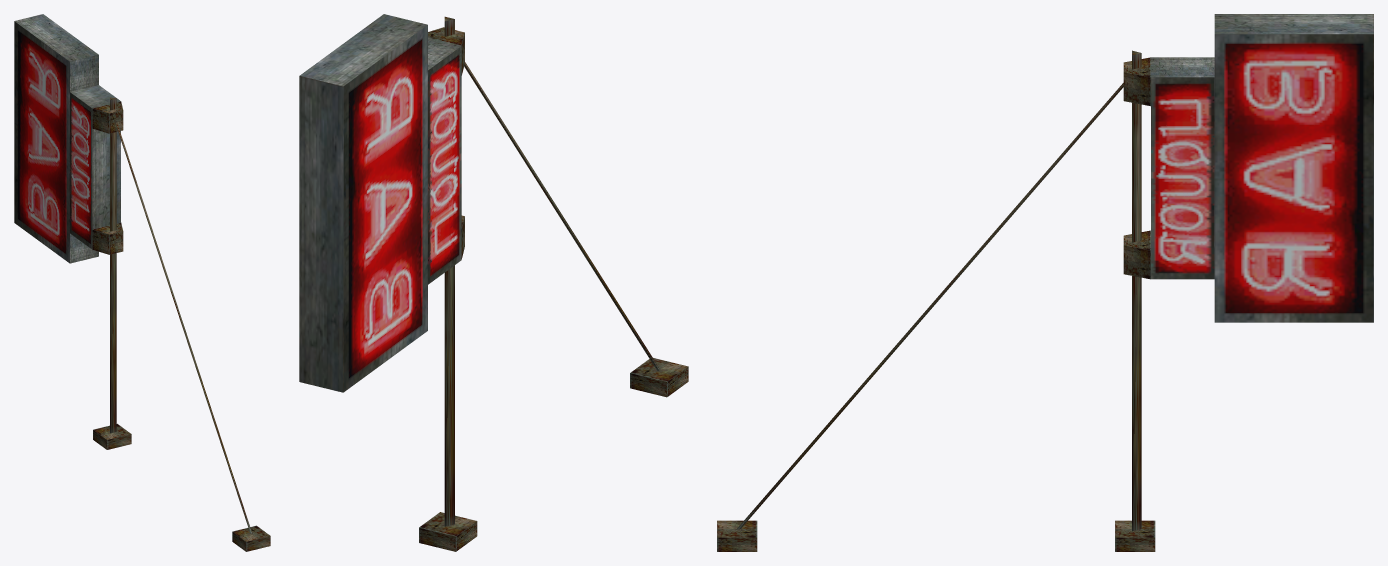
The model's file is bar_liquor.fbx.
3 renders of one model, left to right at view 1: azimuth 30°, elevation 25°; view 2: azimuth 150°, elevation 25°; view 3: azimuth 270°, elevation 25°, orthographic. The views are drawn at different scales.
Parts seen in each view (by area): view 1: mesh_0; view 2: mesh_0; view 3: mesh_0.
Boxes of the visible parts, bbox=[...] form: mesh_0: bbox=[14, 14, 270, 551]; mesh_0: bbox=[299, 14, 688, 551]; mesh_0: bbox=[717, 14, 1373, 551].
Bounding box in the file's own units: 30 × 360 × 413.
Materials: 1 (1 with a texture image).
